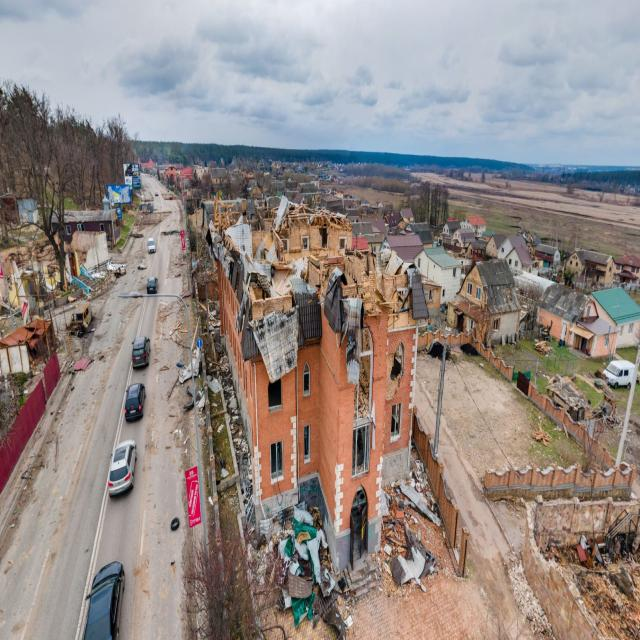broken_window: (352, 325, 374, 428), (352, 422, 371, 478), (270, 438, 285, 480), (268, 377, 283, 416), (390, 401, 402, 439), (303, 419, 311, 463), (303, 373, 310, 396)
building: (206, 176, 430, 601)
damage: (297, 319, 413, 477), (387, 341, 406, 405), (349, 487, 368, 514), (387, 338, 406, 352)
damaged_roof: (211, 196, 430, 383)
other: (2, 0, 640, 640), (0, 7, 382, 640)
roof: (215, 188, 419, 312), (252, 211, 416, 302), (218, 175, 349, 226), (218, 175, 257, 302), (215, 175, 246, 225), (389, 275, 428, 312)
